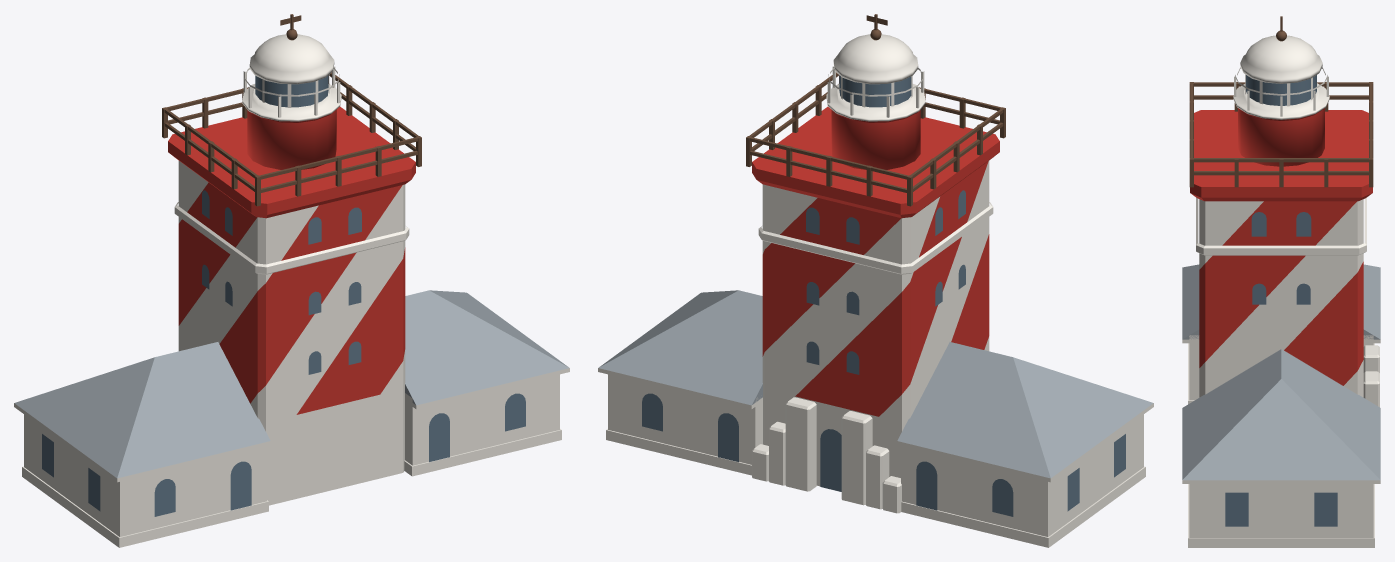
File: cpt-green-point-lighthouse.glb
The picture shows the model from 3 angles, left to right: view 1: azimuth 30°, elevation 25°; view 2: azimuth 150°, elevation 25°; view 3: azimuth 270°, elevation 25°; orthographic projection. The views are drawn at different scales.
Visible parts, largest first — view 1: Green Point Lighthouse; view 2: Green Point Lighthouse; view 3: Green Point Lighthouse.
Part boxes in pixels (x1,y1,x2,y2): Green Point Lighthouse: [14, 14, 569, 547]; Green Point Lighthouse: [598, 14, 1153, 547]; Green Point Lighthouse: [1182, 16, 1380, 547].
Size of the model in its own units: 21.46 by 20.1 by 8.46.
